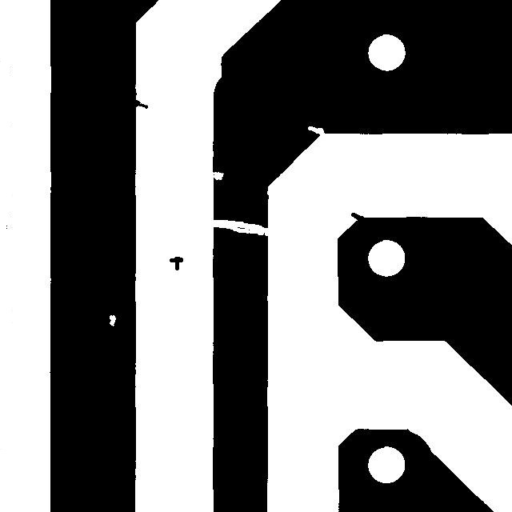copper: (162, 249, 190, 278)
mousebite: (300, 118, 332, 143), (199, 164, 231, 187)
open: (203, 212, 278, 243)
pin-hole: (102, 307, 123, 334)
spur: (120, 92, 155, 116), (343, 205, 372, 228)
